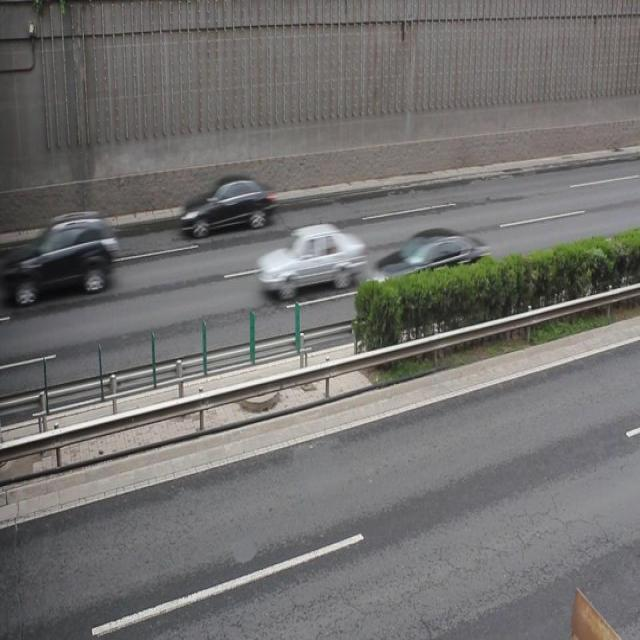car: (22, 210, 115, 300), (256, 222, 366, 298), (368, 228, 487, 296), (181, 174, 275, 236)
